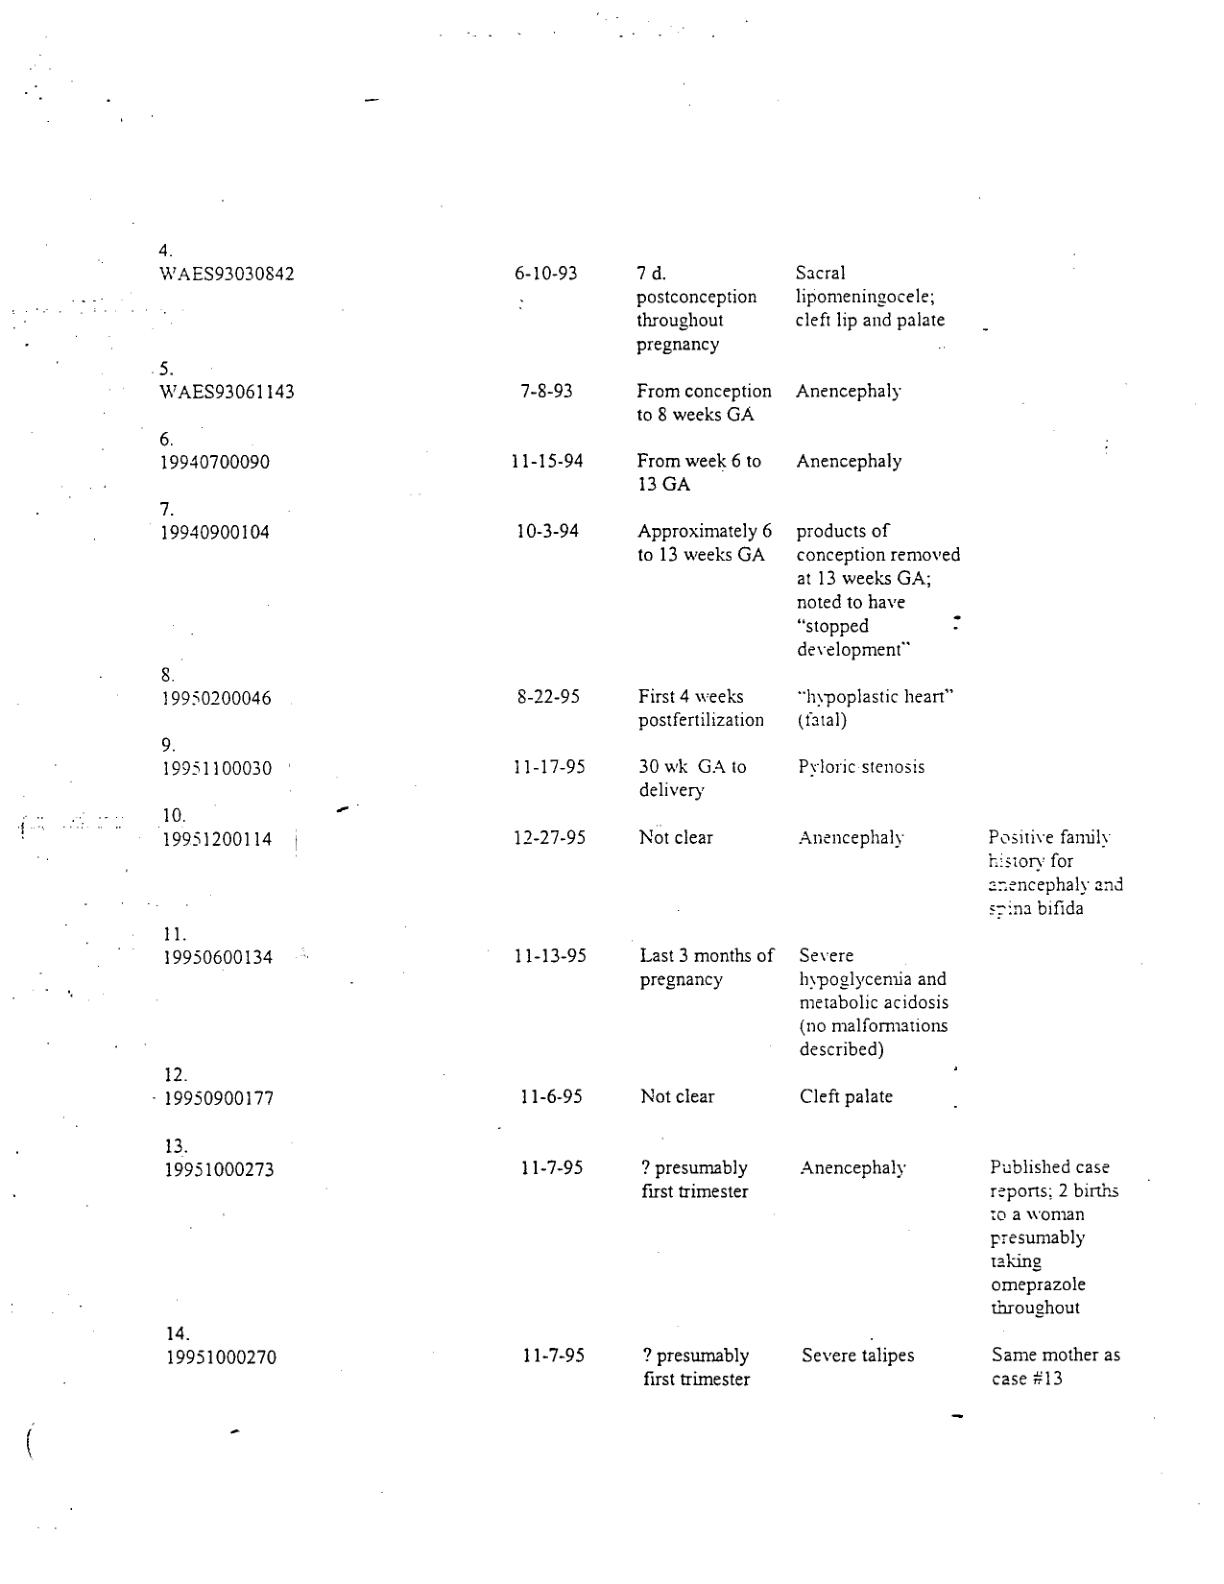nolines: (156, 239, 1126, 1392)
